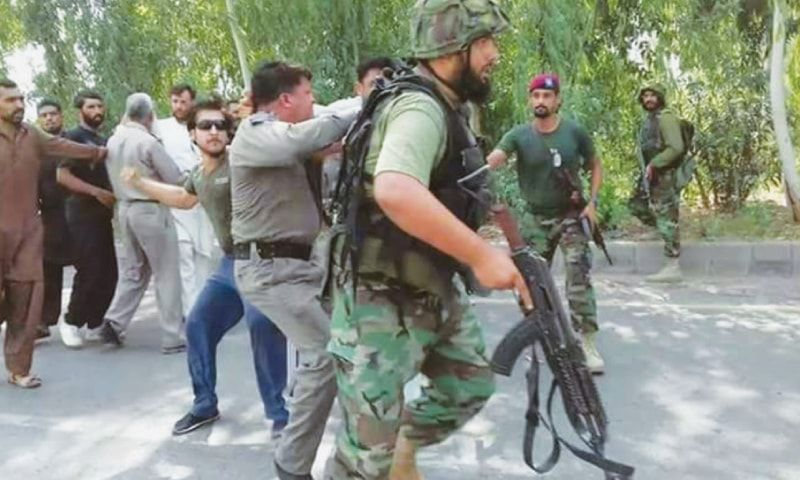gun: (449, 170, 615, 449)
uniform: (336, 55, 486, 468), (491, 69, 618, 372), (621, 67, 693, 287)
